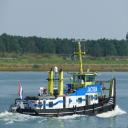tugboat: (8, 40, 118, 121)
